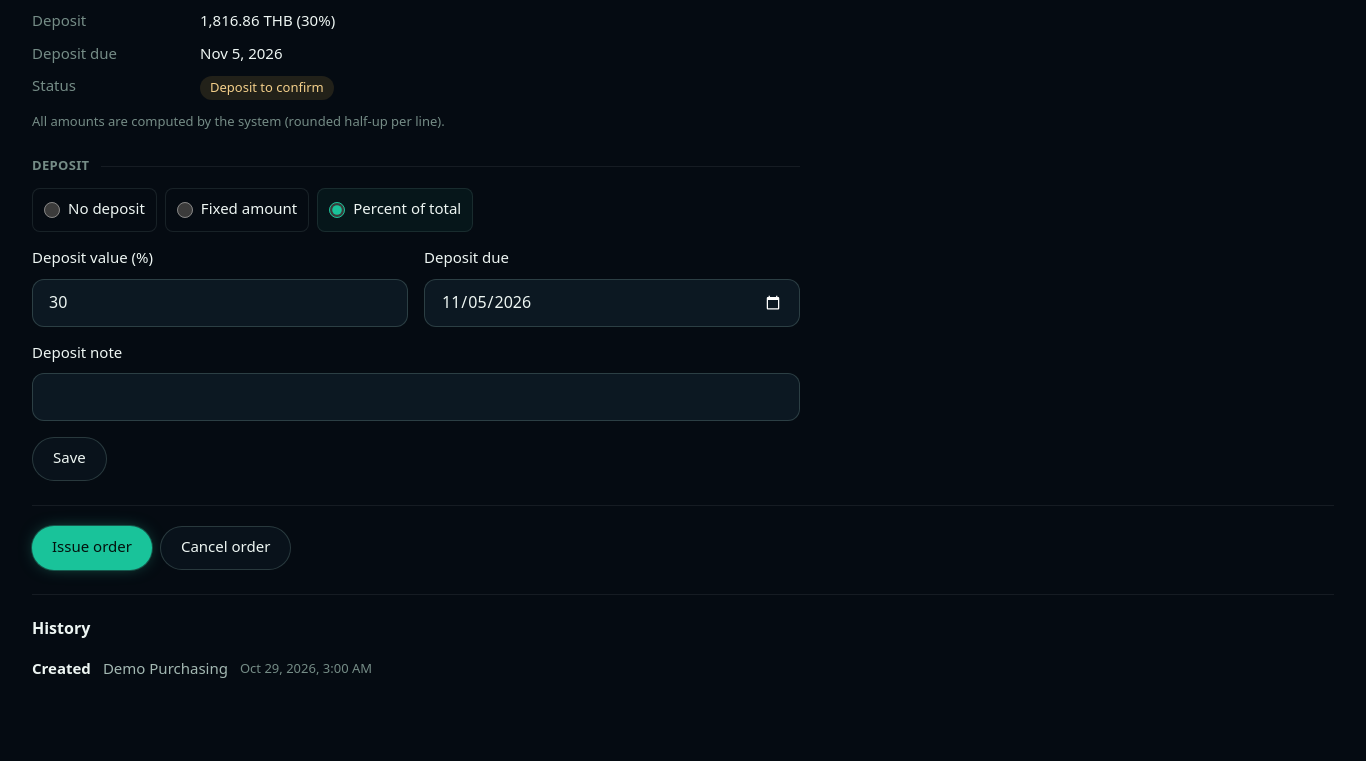
it: Purchase orders (EP30) › server refusals are shown in words; the Executive gets a read-only summary
This screenshot has width=1366, height=761.
(page scrolled)
What coordinates should you click on to do the following:
click the button "Issue order"
I would click on:
 (92, 548)
Its box is [32, 526, 152, 570].
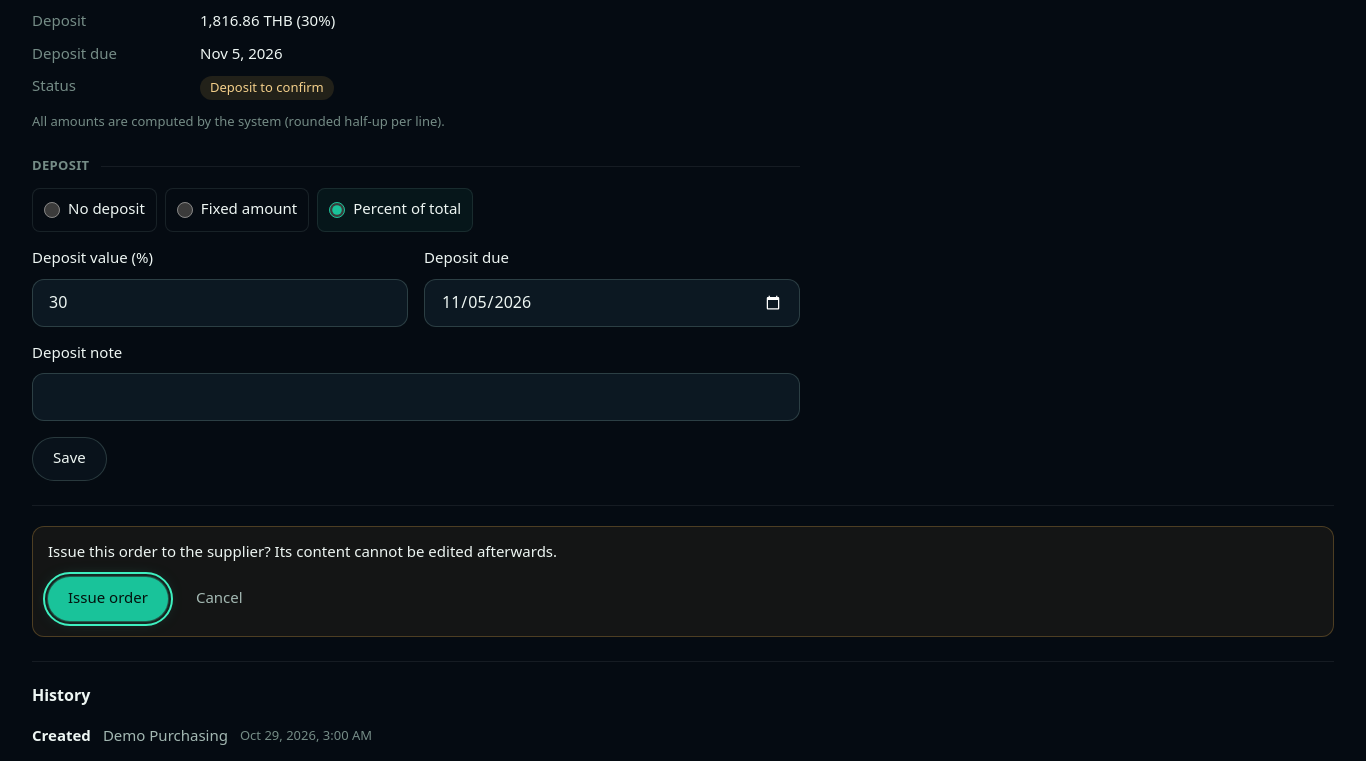
What coordinates should you click on to do the following:
click the button "Issue order"
I would click on:
 (108, 599)
Its box is [48, 577, 168, 621].
(page scrolled)
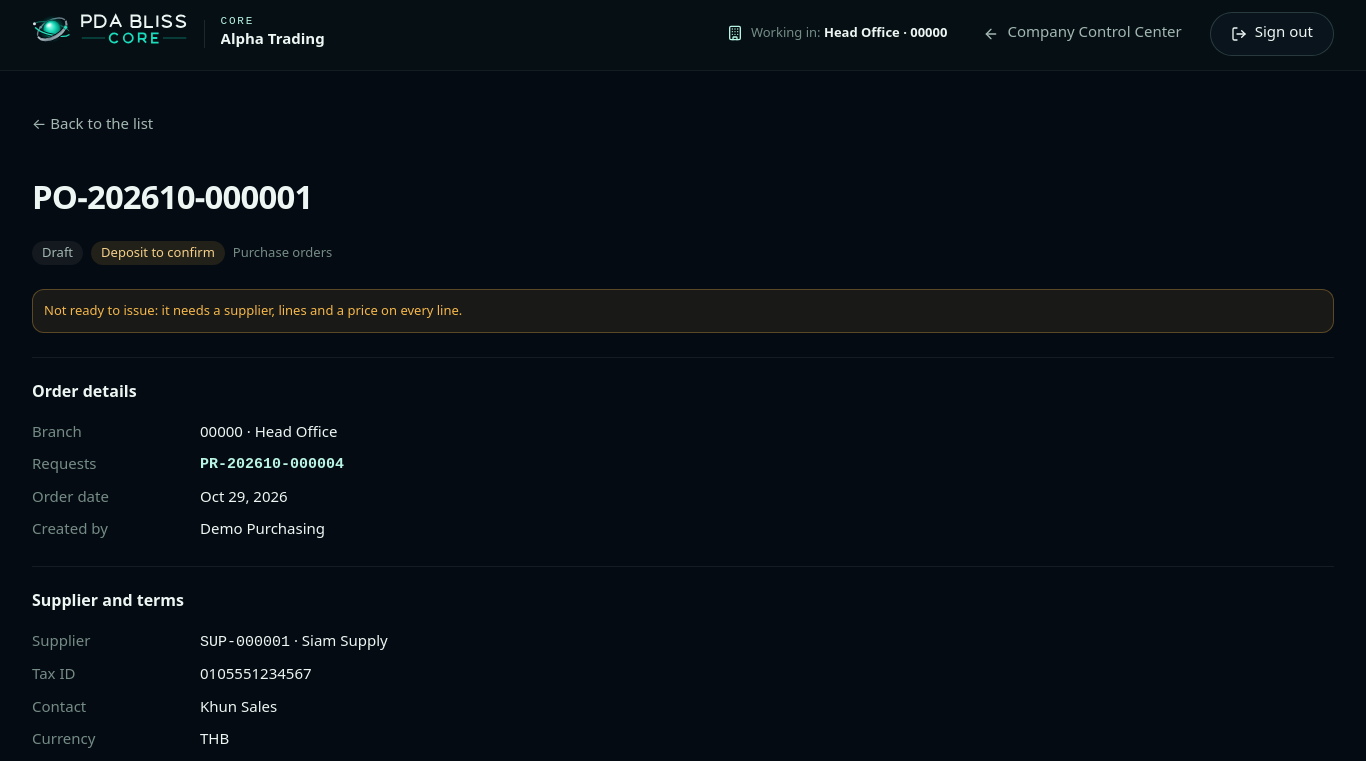
Now the text "Not ready to issue: it needs a supplier, lines and a price on every line." is shown, box [32, 289, 1334, 333]
